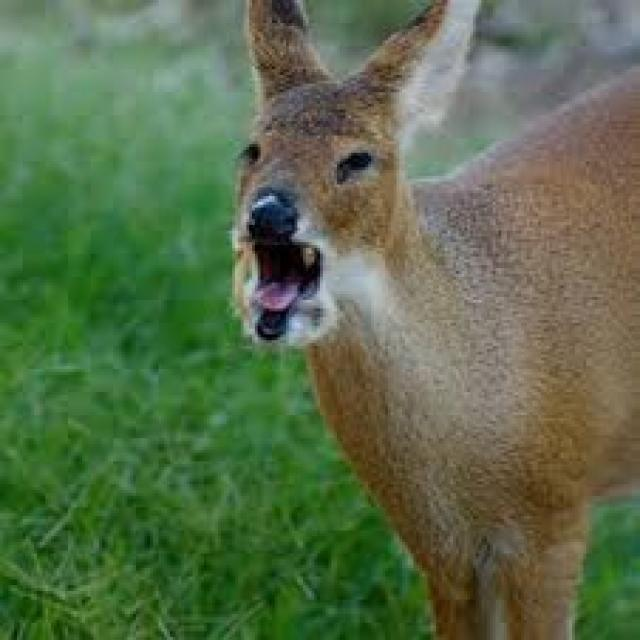elk: (174, 2, 640, 640)
